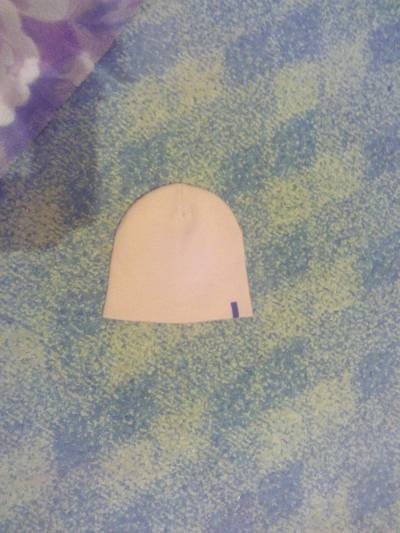Hat: (78, 157, 279, 342)
